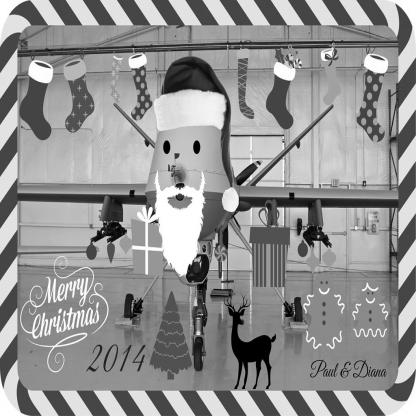MQ9: (18, 104, 400, 373)
